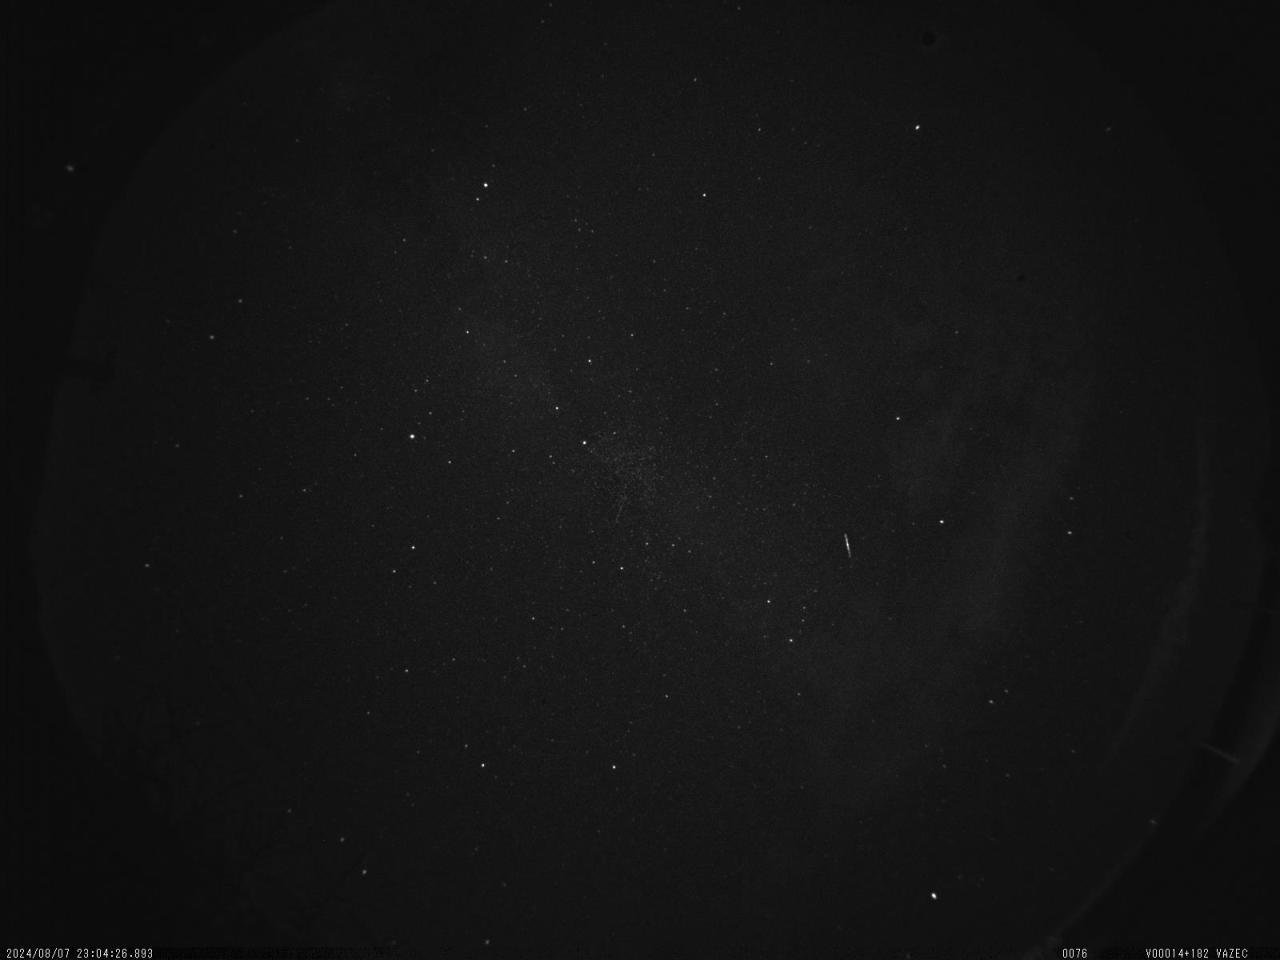Meteor: (841, 531, 853, 559)
